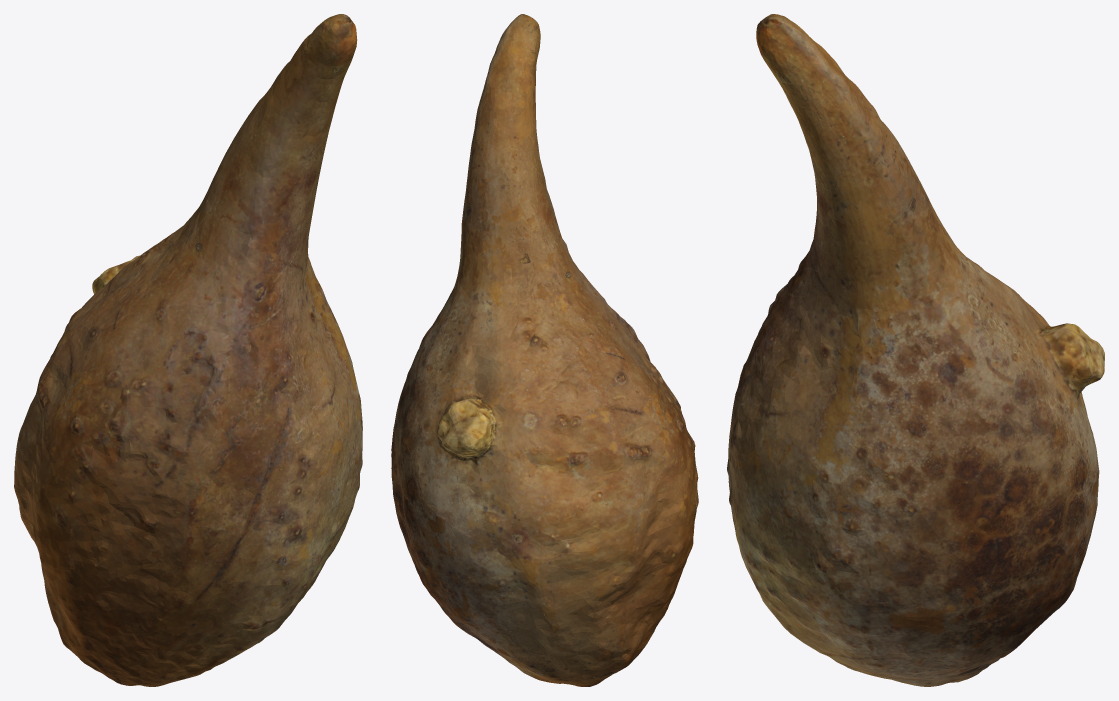
File: gourd.obj
3 views of the same model, side by side, from view 1: azimuth 30°, elevation 25°; view 2: azimuth 150°, elevation 25°; view 3: azimuth 270°, elevation 25° (orthographic). The views are drawn at different scales.
Parts seen in each view (by area): view 1: gourd; view 2: gourd; view 3: gourd.
Boxes of the visible parts, x1=… form: gourd: x1=14, y1=14, x2=362, y2=686; gourd: x1=391, y1=14, x2=698, y2=686; gourd: x1=727, y1=14, x2=1104, y2=686.
Bounding box in the file's own units: 4.95 × 10.5 × 4.92.
